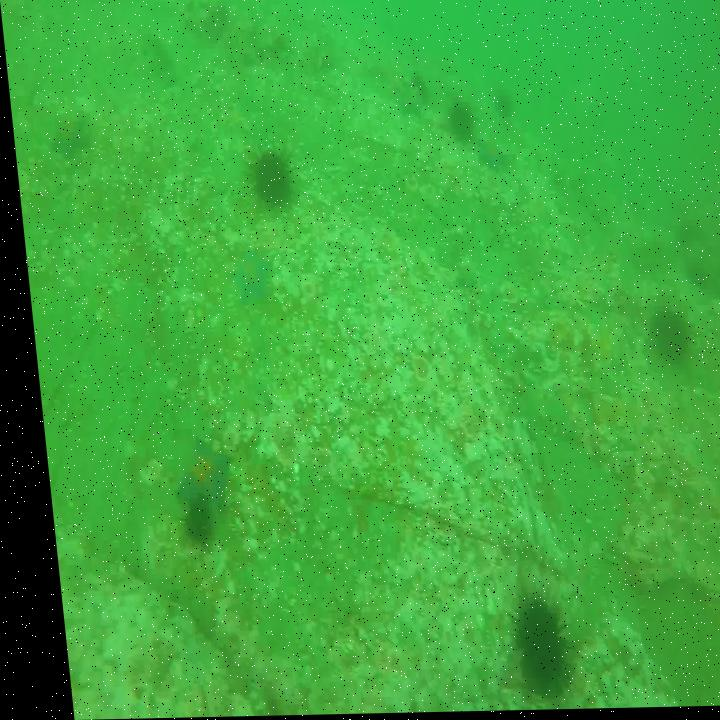echinus: (492, 599, 556, 702), (246, 150, 292, 212), (644, 304, 683, 365), (176, 498, 206, 550), (443, 102, 470, 146), (496, 93, 511, 119)
starfish: (163, 436, 224, 510), (221, 237, 271, 302), (48, 116, 93, 159), (470, 135, 509, 180)
